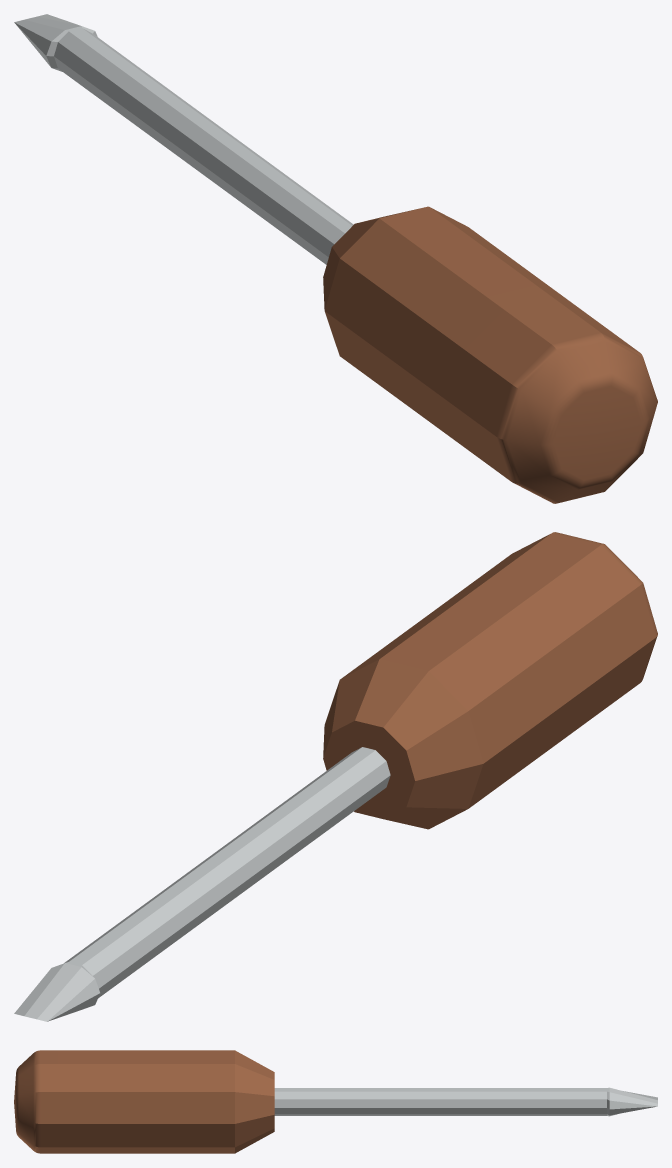
Rendered from Screwdriver.fbx.
3 renders of one model, top to bottom at view 1: azimuth 30°, elevation 25°; view 2: azimuth 150°, elevation 25°; view 3: azimuth 270°, elevation 25°, orthographic. The views are drawn at different scales.
Parts seen in each view (by area): view 1: Screwdriver; view 2: Screwdriver; view 3: Screwdriver.
Boxes of the visible parts, left/top/right/bottom form: Screwdriver: left=14, top=14, right=657, bottom=503; Screwdriver: left=14, top=532, right=657, bottom=1021; Screwdriver: left=14, top=1050, right=657, bottom=1153.
Bounding box in the file's own units: 0.5884 × 0.5596 × 3.65.
2 materials, 2 textured.
